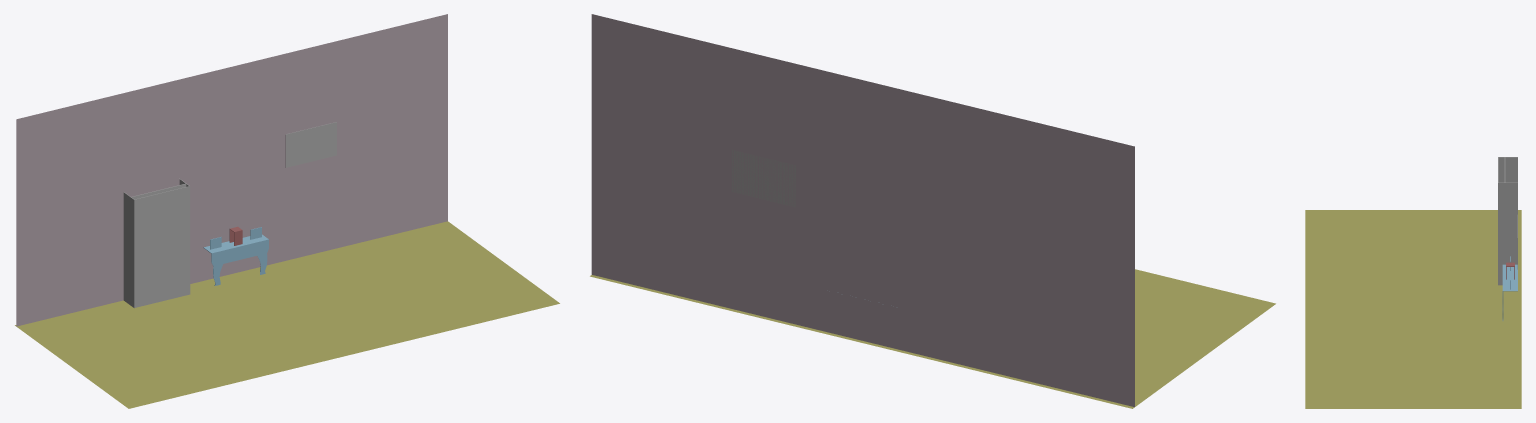
Rendered from ModeladoTutorial.fbx.
3 renders of one model, left to right at view 1: azimuth 30°, elevation 25°; view 2: azimuth 150°, elevation 25°; view 3: azimuth 270°, elevation 25°, orthographic. The views are drawn at different scales.
Parts seen in each view (by area): view 1: ParedTutorial, SueloTutorial, BaseArmario, Cuadro, DeskCajasTO, Puerta_izq, Puerta_drch; view 2: ParedTutorial, SueloTutorial, Cuadro; view 3: SueloTutorial, BaseArmario, DeskCajasTO.
Boxes of the visible parts, x1,y1,x2,y2 form: ParedTutorial: (16,14,447,326); SueloTutorial: (15,221,559,408); BaseArmario: (123,178,190,307); Cuadro: (285,122,336,167); DeskCajasTO: (203,227,268,285); Puerta_izq: (139,213,162,265); Puerta_drch: (162,207,184,259); ParedTutorial: (591,14,1134,407); SueloTutorial: (590,269,1275,408); Cuadro: (732,150,795,206); SueloTutorial: (1305,210,1521,408); BaseArmario: (1498,157,1517,285); DeskCajasTO: (1502,256,1517,320).
Bounding box in the file's own units: 1151 × 528 × 528.
